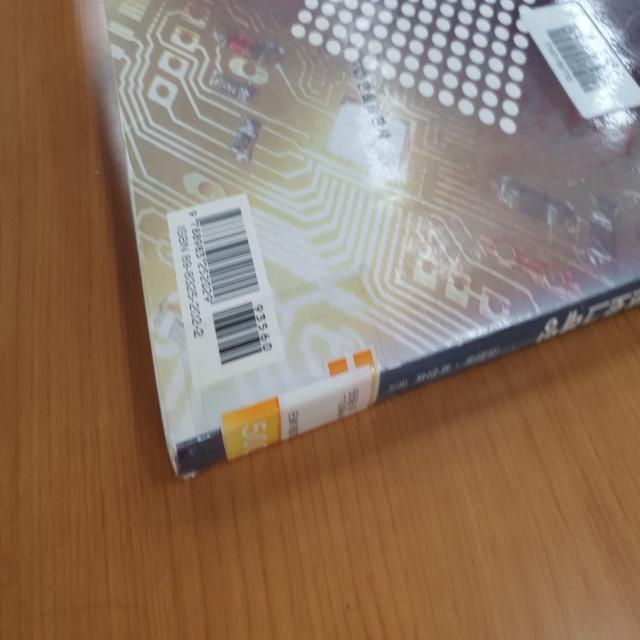Ripped: (180, 460, 206, 484)
Wornout: (146, 341, 182, 480), (120, 124, 147, 290)
